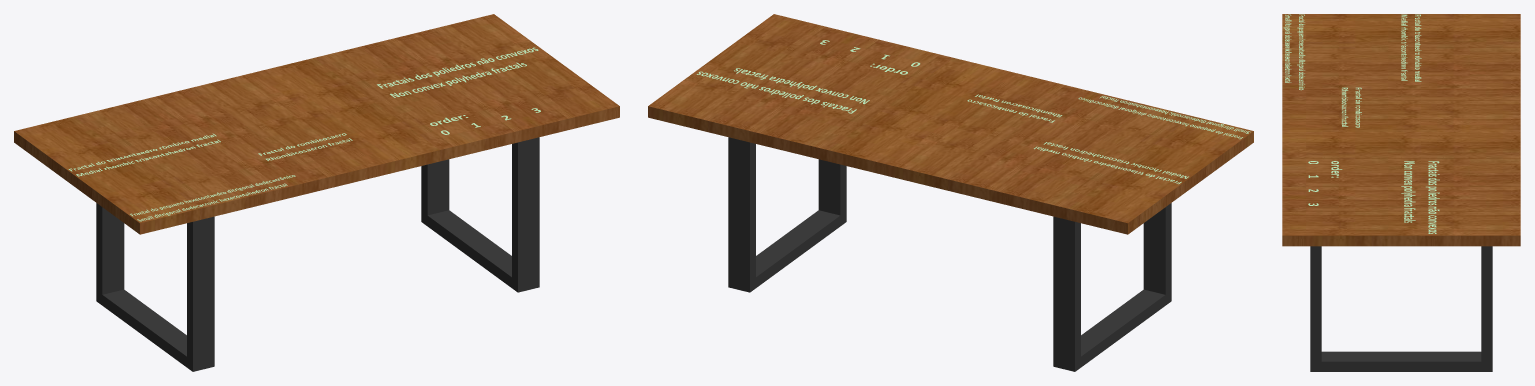
Rendered from fractal_nonconvex4.glb.
The picture shows the model from 3 angles, left to right: view 1: azimuth 30°, elevation 25°; view 2: azimuth 150°, elevation 25°; view 3: azimuth 270°, elevation 25°; orthographic projection. The views are drawn at different scales.
Parts seen in each view (by area): view 1: object 1, Composant#1 (×2), Fractais dos pol#1, Fractal do peque#1, Fractal do triac; view 2: object 1, Composant#1 (×2), Fractais dos pol#1, Fractal do peque#1, Fractal do triac; view 3: object 1, Composant#1, Fractais dos pol#1, Fractal do peque#1, Fractal do triac, Fractal do rombi.
Boxes of the visible parts, <box> form: object 1: <box>14,14,619,234</box>; Composant#1 (×2): <box>96,137,539,371</box>; Fractais dos pol#1: <box>377,47,538,97</box>; Fractal do peque#1: <box>130,175,295,221</box>; Fractal do triac: <box>68,133,220,176</box>; object 1: <box>648,14,1253,234</box>; Composant#1 (×2): <box>728,137,1171,371</box>; Fractais dos pol#1: <box>696,68,869,113</box>; Fractal do peque#1: <box>1078,96,1250,139</box>; Fractal do triac: <box>1034,142,1188,184</box>; object 1: <box>1282,14,1520,246</box>; Composant#1: <box>1310,246,1492,371</box>; Fractais dos pol#1: <box>1401,161,1439,233</box>; Fractal do peque#1: <box>1283,14,1305,90</box>; Fractal do triac: <box>1401,14,1421,81</box>; Fractal do rombi: <box>1341,87,1361,127</box>.
Size of the model in its own units: 2.2 by 0.7711 by 1.
Materials: 3 (1 with a texture image).
